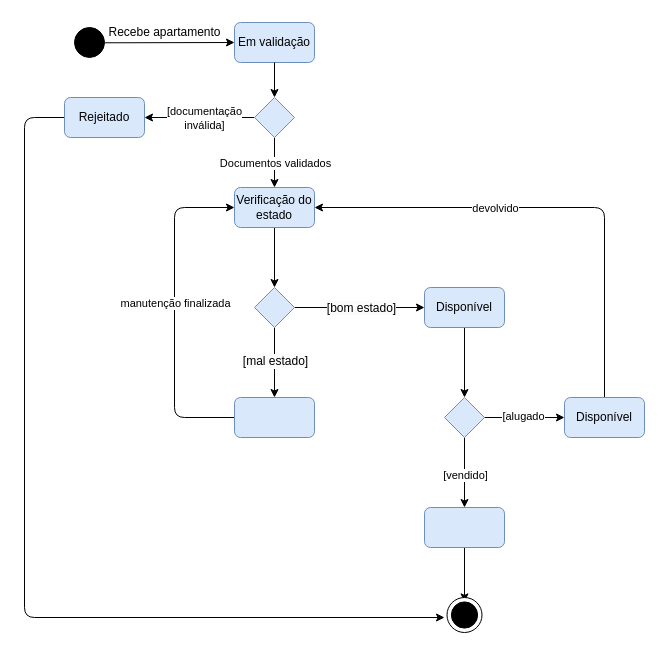
Some shapes in this 662 by 650 pixel diagram are drawn without their labels. The centre of each missing label's shape, as x and y in pixels:
"Em manutenção" belongs at (x=274, y=417).
"Vendido" belongs at (x=464, y=527).
